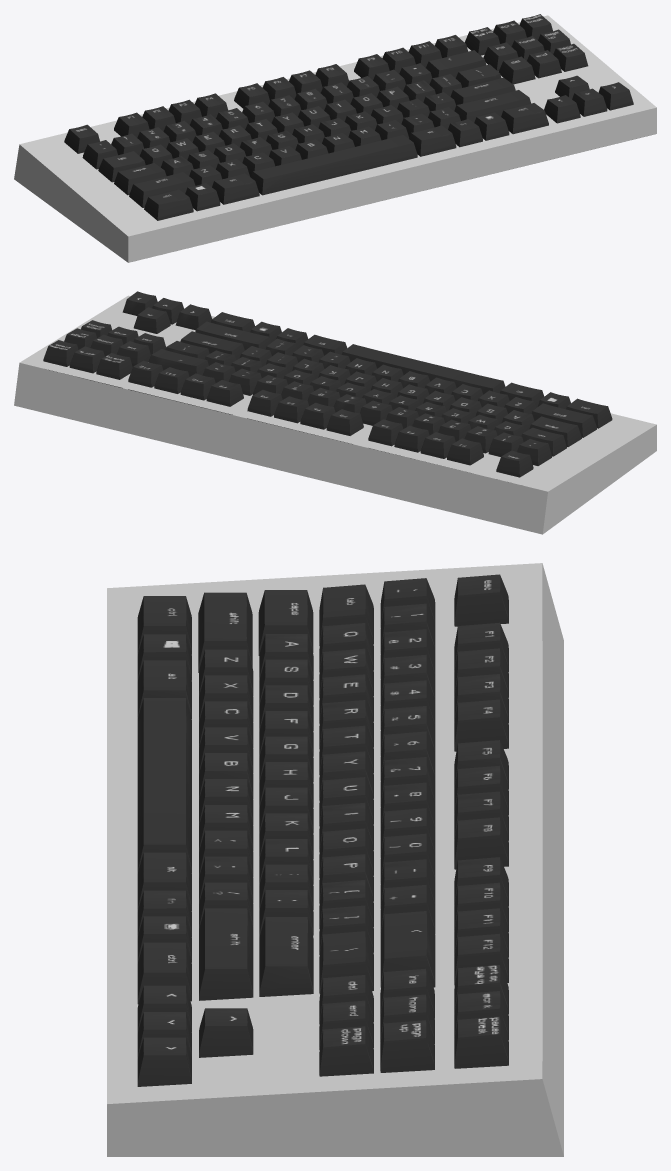
File: keyboard.FBX
3 renders of one model, top to bottom at view 1: azimuth 30°, elevation 25°; view 2: azimuth 150°, elevation 25°; view 3: azimuth 270°, elevation 25°, orthographic. The views are drawn at different scales.
Parts seen in each view (by area): view 1: Plane004.041, Plane004.093; view 2: Plane004.041, Plane004.093; view 3: Plane004.041, Plane004.093.
Boxes of the visible parts, box(x1,y1,x2,y2) form: Plane004.041: box(64, 14, 633, 220); Plane004.093: box(14, 15, 656, 262); Plane004.041: box(43, 291, 612, 477); Plane004.093: box(14, 295, 656, 534); Plane004.041: box(137, 574, 508, 1086); Plane004.093: box(107, 563, 563, 1156).
Bounding box in the file's own units: 86.5 × 8.19 × 32.39.
1 material, 1 textured.
